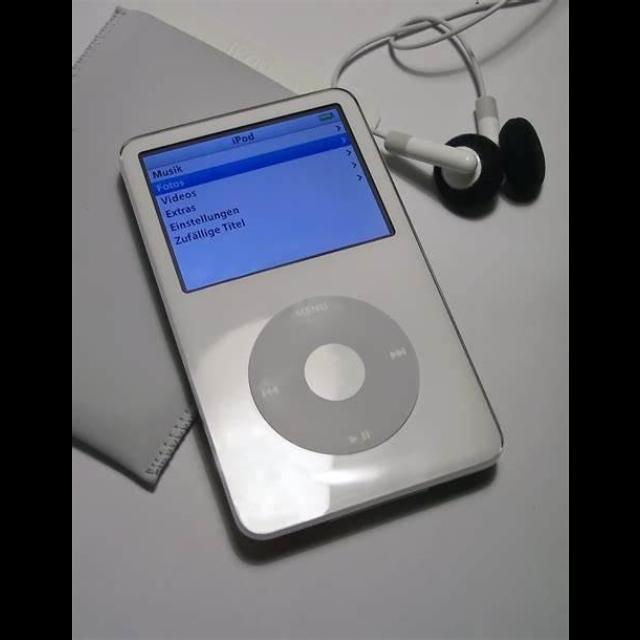Music-Player: (104, 80, 490, 544)
